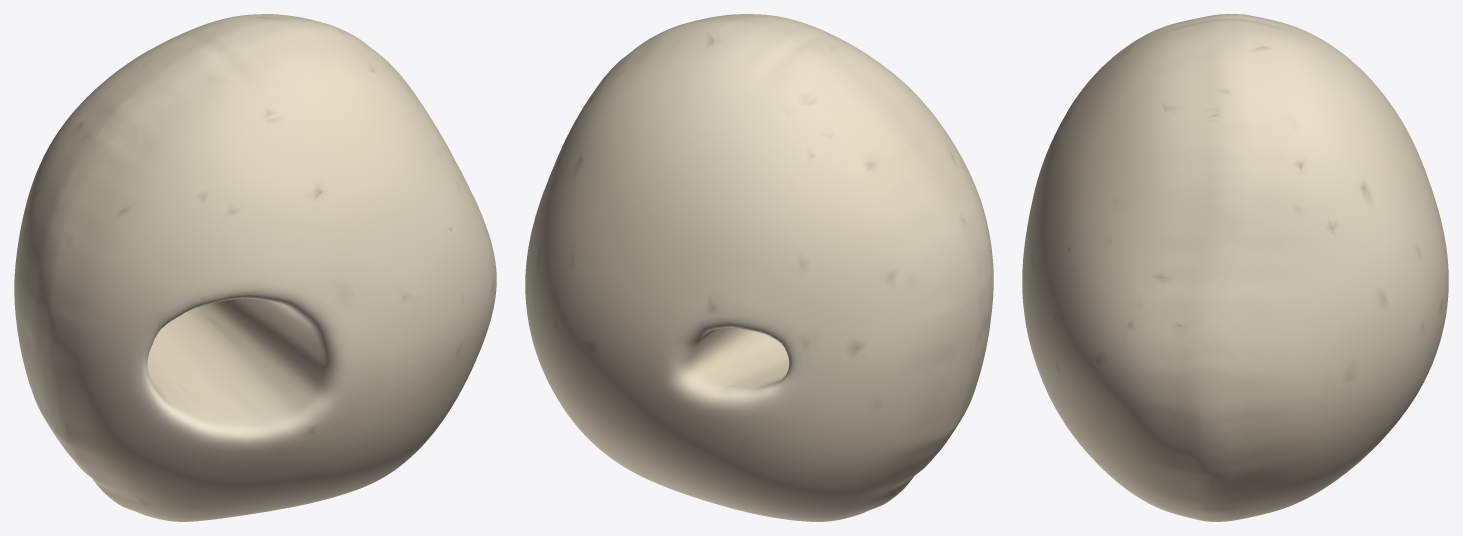
Rendered from pawn-white-hd.glb.
The picture shows the model from 3 angles, left to right: view 1: azimuth 30°, elevation 25°; view 2: azimuth 150°, elevation 25°; view 3: azimuth 270°, elevation 25°; orthographic projection.
Parts seen in each view (by area): view 1: Lumen pesec bila; view 2: Lumen pesec bila; view 3: Lumen pesec bila.
Part boxes in pixels (x1,y1,x2,y2): Lumen pesec bila: (14,14,496,521); Lumen pesec bila: (525,14,993,521); Lumen pesec bila: (1022,14,1448,521).
Size of the model in its own units: 0.6061 by 0.62 by 0.5352.
